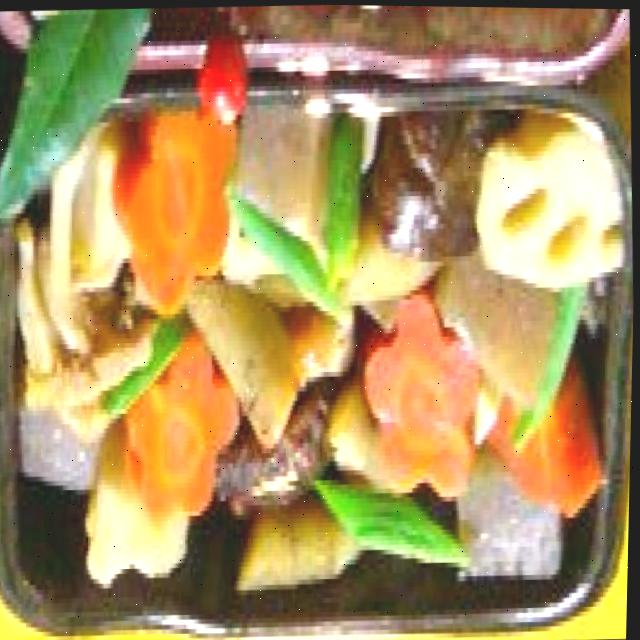鸡肉料理 含炸鸡: (0, 93, 638, 640)
